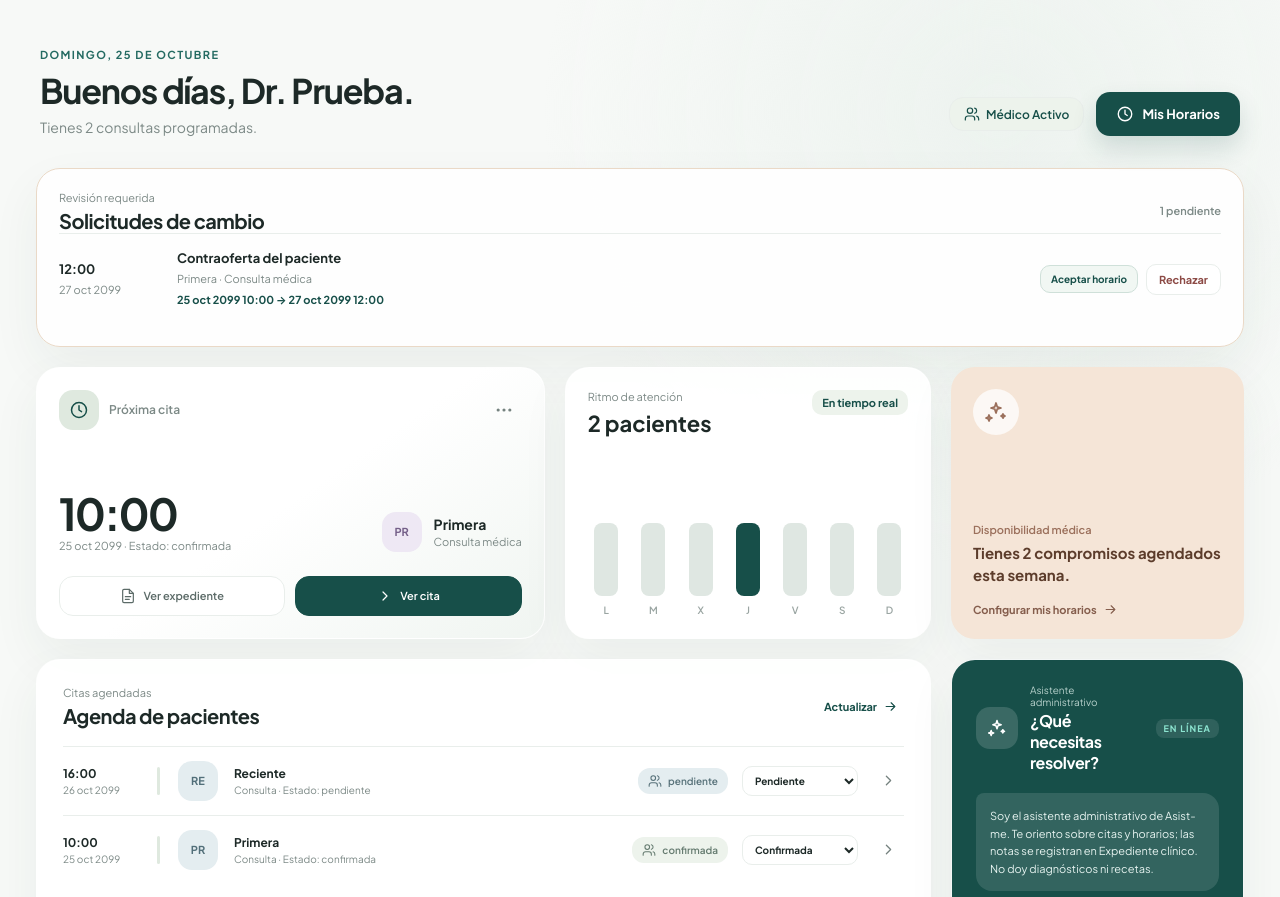
it: retains change-request summary and displays request refresh failure
Expected: the text "Revisión requerida" is shown, left=59, top=191, right=155, bottom=204
Click the button "Actualizar".
click(861, 707)  # box left=818, top=698, right=904, bottom=716
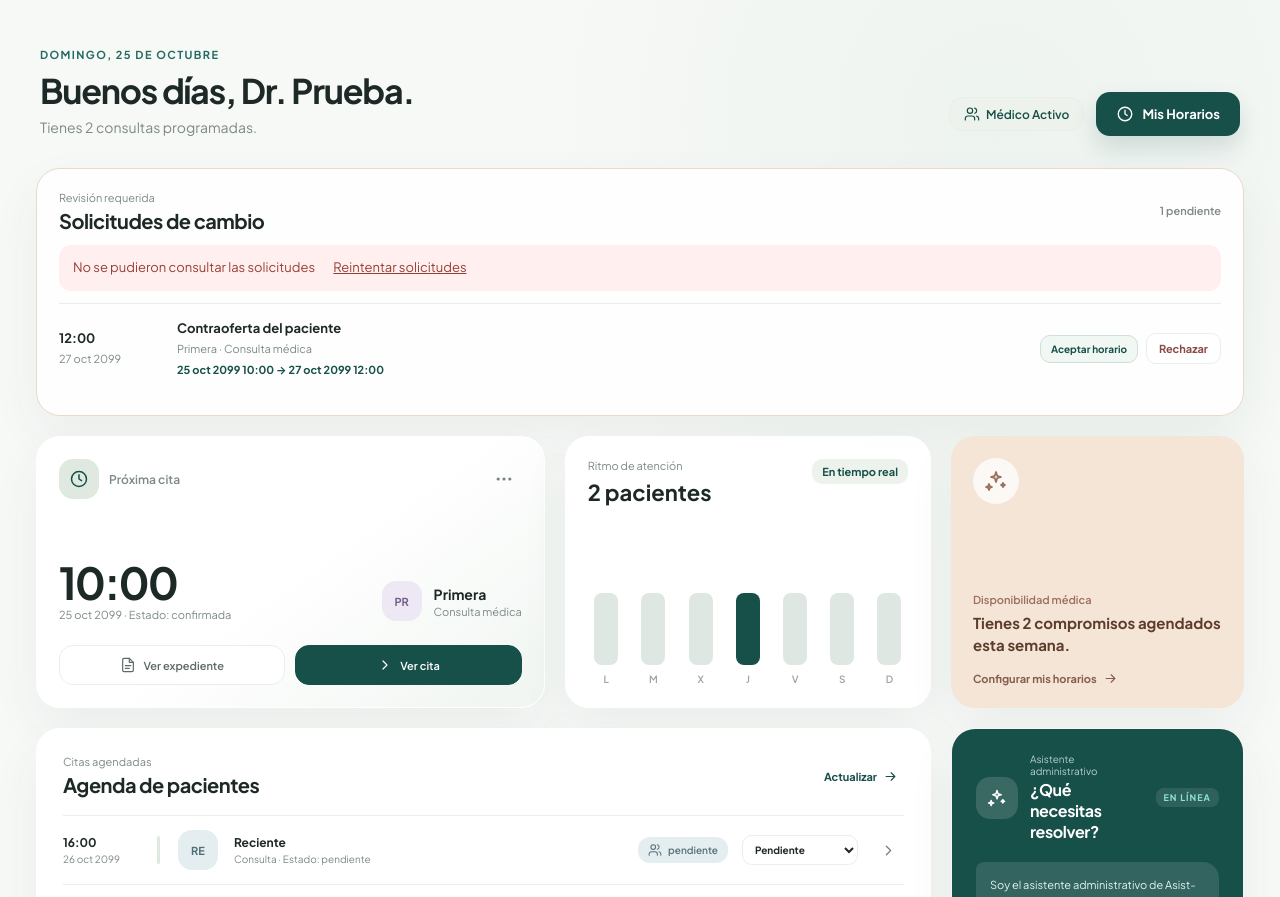
Expected: the text "Contraoferta del paciente" is shown, left=177, top=320, right=341, bottom=336
Now the text "No se pudieron consultar las solicitudes" is shown, box left=73, top=259, right=315, bottom=275
